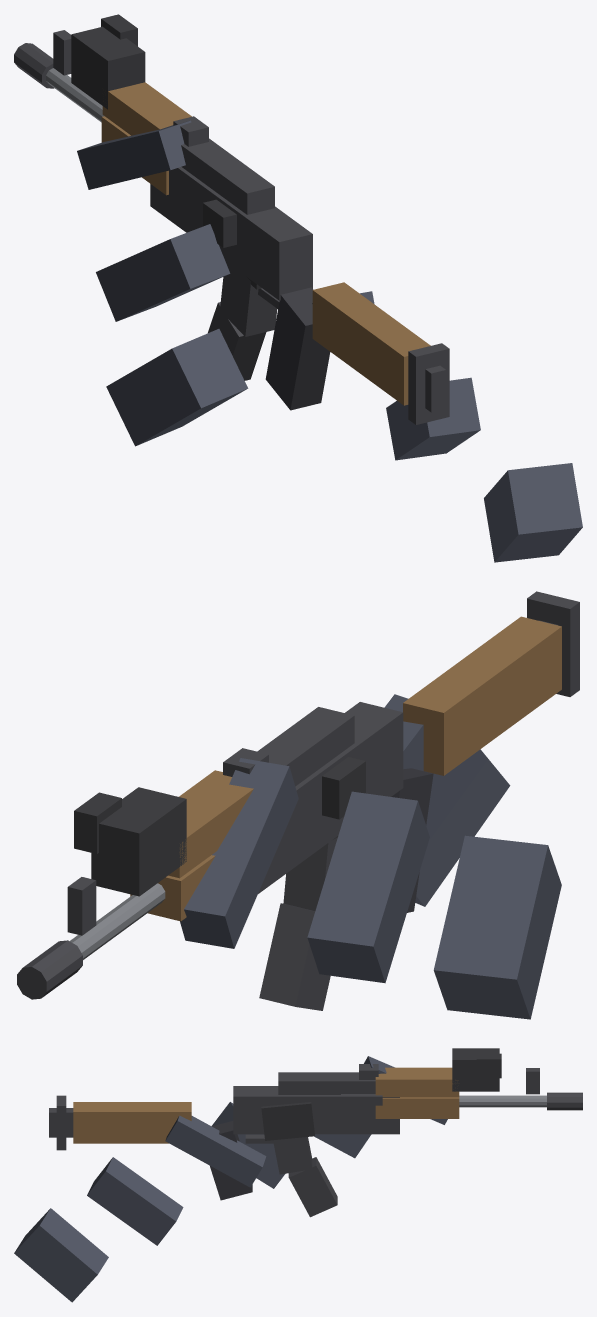
The model's file is Galil.glb.
3 views of the same model, one above another, from view 1: azimuth 30°, elevation 25°; view 2: azimuth 150°, elevation 25°; view 3: azimuth 270°, elevation 25° (orthographic). The views are drawn at different scales.
Parts seen in each view (by area): view 1: Galil, arms; view 2: arms, Galil; view 3: Galil, arms.
Part boxes in pixels (x1,y1,x2,y2): Galil: (14,30,449,424); arms: (71,14,582,562); arms: (74,694,561,1019); Galil: (17,591,579,1010); Galil: (49,1064,582,1217); arms: (14,1048,501,1302).
Size of the model in its own units: 0.3162 by 0.3323 by 0.8183.
